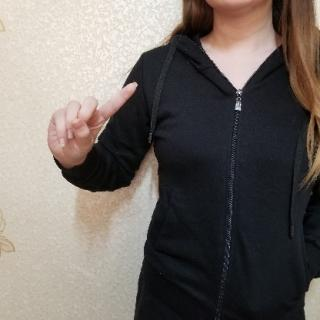BAA: (42, 76, 140, 168)
